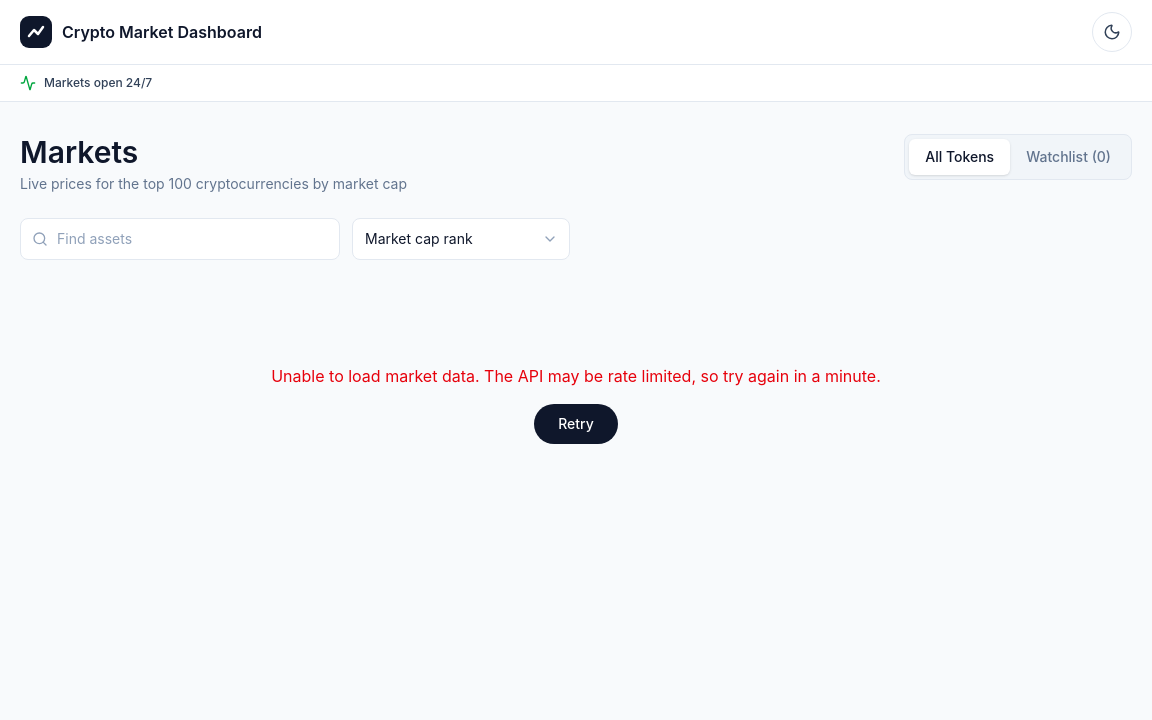
Test: Markets dashboard › shows an error when the API fails, and recovers on retry
Expected: the message shows "Unable to load market data", [271,366,881,386]
Click the button "Retry" at (576, 424), box [534,404,618,444]
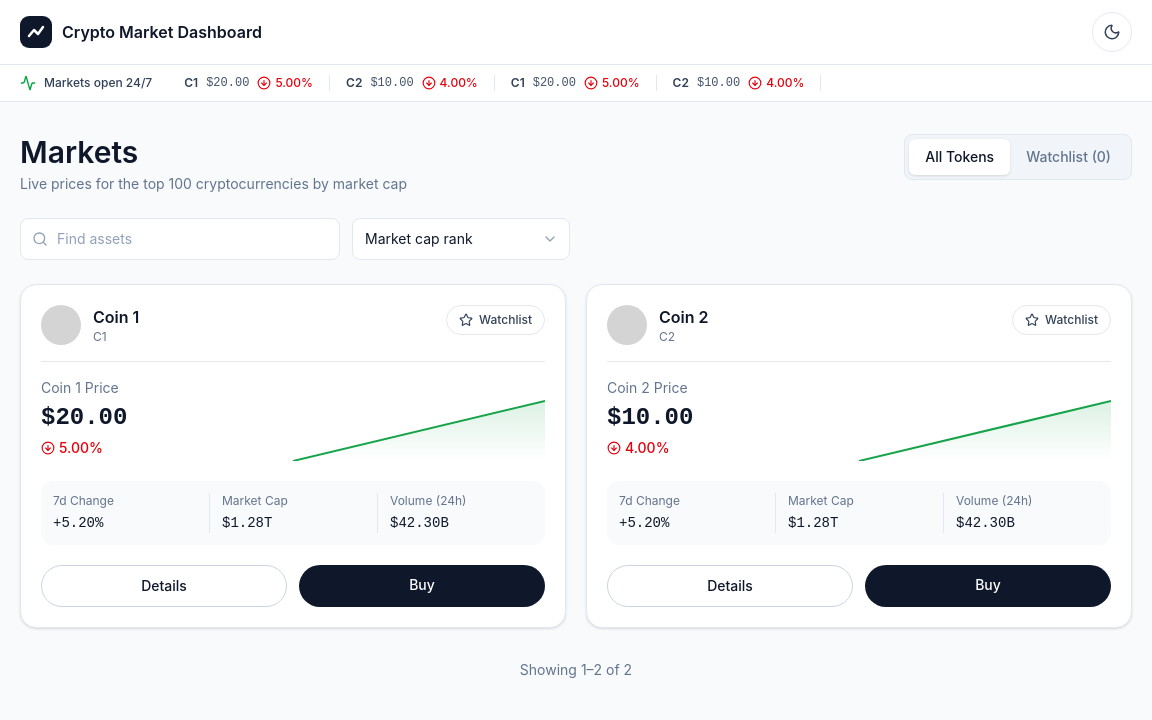
Expected: the heading "Coin 1" is shown, [93,305,139,329]
Expected: the message is gone
